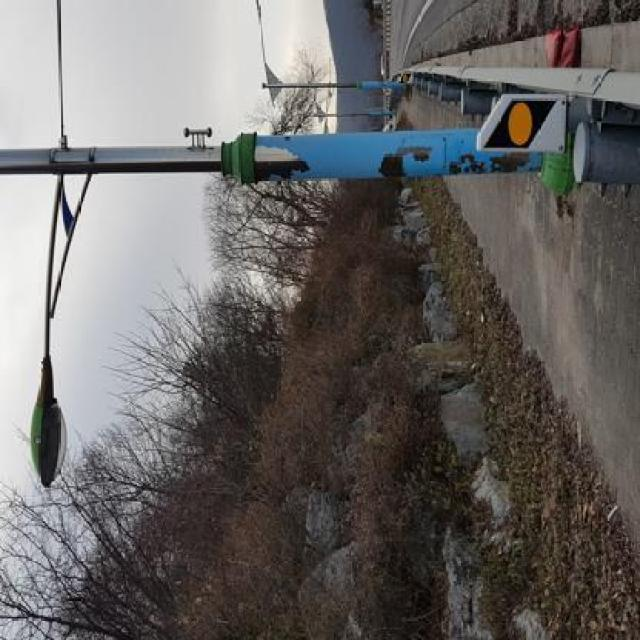pole: (29, 96, 578, 192)
